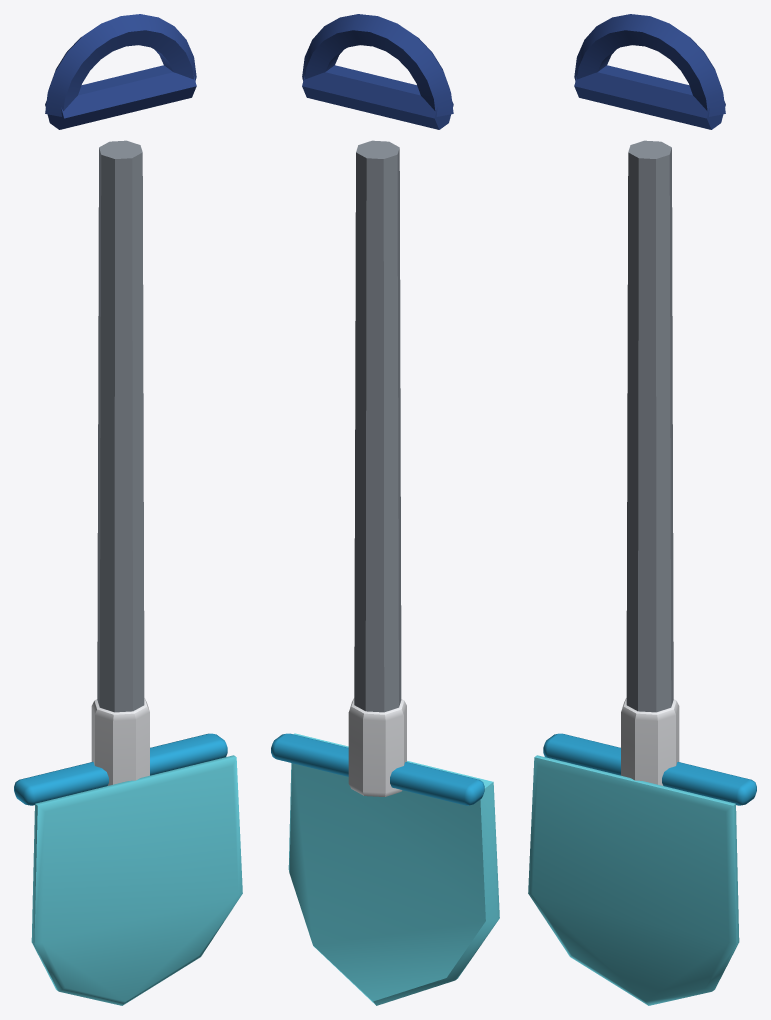
Rendered from DiamondShovel.fbx.
The picture shows the model from 3 angles, left to right: view 1: azimuth 30°, elevation 25°; view 2: azimuth 150°, elevation 25°; view 3: azimuth 330°, elevation 25°; orthographic projection.
Visible parts, largest first — view 1: DiamondShovel; view 2: DiamondShovel; view 3: DiamondShovel.
Boxes of the visible parts, x1,y1,x2,y2 form: DiamondShovel: [14, 14, 242, 1005]; DiamondShovel: [271, 14, 499, 1005]; DiamondShovel: [528, 14, 756, 1005].
Bounding box in the file's own units: 0.88 × 3.99 × 0.2516.
1 material, 1 textured.
